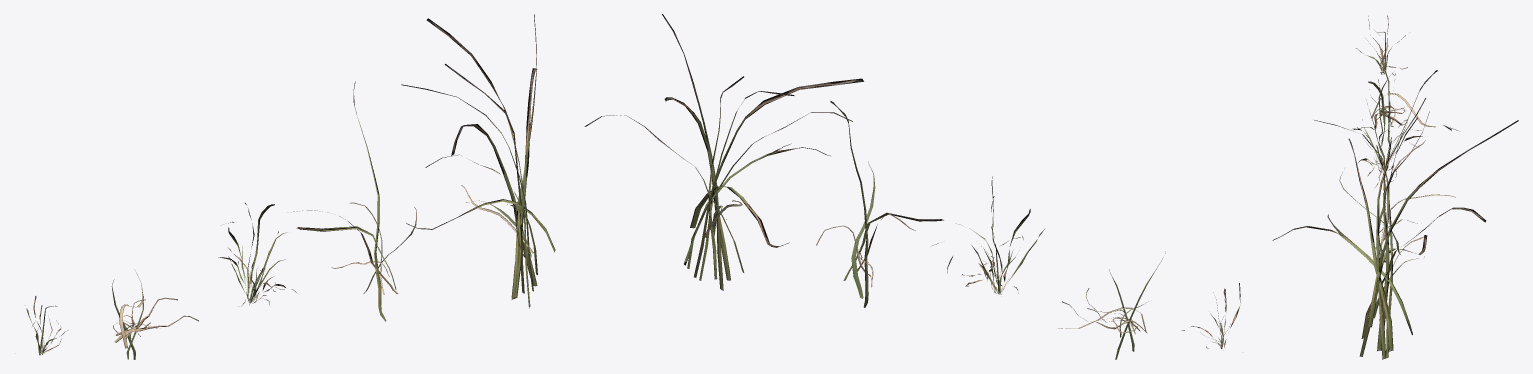
Rendered from grass_medium_02.glb.
The picture shows the model from 3 angles, left to right: view 1: azimuth 30°, elevation 25°; view 2: azimuth 150°, elevation 25°; view 3: azimuth 270°, elevation 25°; orthographic projection. The views are drawn at different scales.
Visible parts, largest first — view 1: grass_medium_02_e, grass_medium_02_d, grass_medium_02_c, grass_medium_02_b, grass_medium_02_a; view 2: grass_medium_02_e, grass_medium_02_d, grass_medium_02_c, grass_medium_02_b; view 3: grass_medium_02_e, grass_medium_02_c, grass_medium_02_d, grass_medium_02_b, grass_medium_02_a.
Part boxes in pixels (box(x1,y1,x2,y2)): grass_medium_02_e: box(401, 14, 555, 308); grass_medium_02_d: box(293, 81, 416, 321); grass_medium_02_c: box(218, 203, 297, 306); grass_medium_02_b: box(111, 269, 198, 359); grass_medium_02_a: box(26, 296, 67, 355); grass_medium_02_e: box(584, 14, 863, 290); grass_medium_02_d: box(816, 101, 943, 307); grass_medium_02_c: box(932, 176, 1045, 294); grass_medium_02_b: box(1058, 251, 1165, 359); grass_medium_02_e: box(1272, 98, 1518, 359); grass_medium_02_c: box(1353, 79, 1459, 188); grass_medium_02_d: box(1339, 70, 1455, 262); grass_medium_02_b: box(1353, 40, 1435, 149); grass_medium_02_a: box(1356, 15, 1407, 75).
Size of the model in its own units: 1.33 by 0.5884 by 0.515.
Materials: 1 (1 with a texture image).
